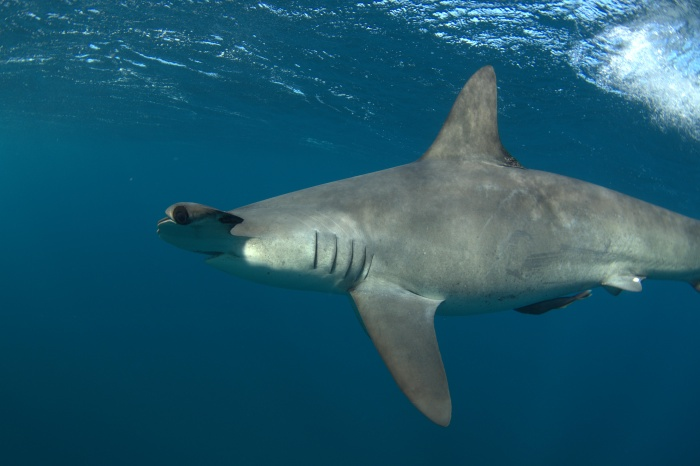Hammer: (139, 34, 700, 450)
